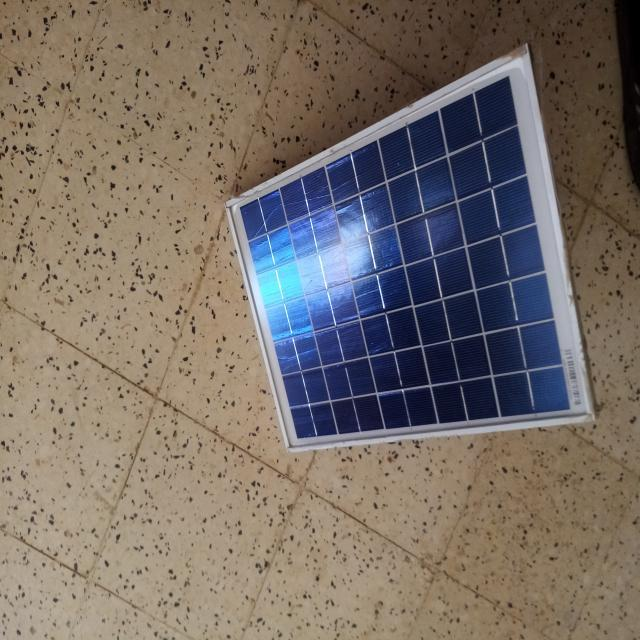no faulty: (231, 49, 592, 451)
